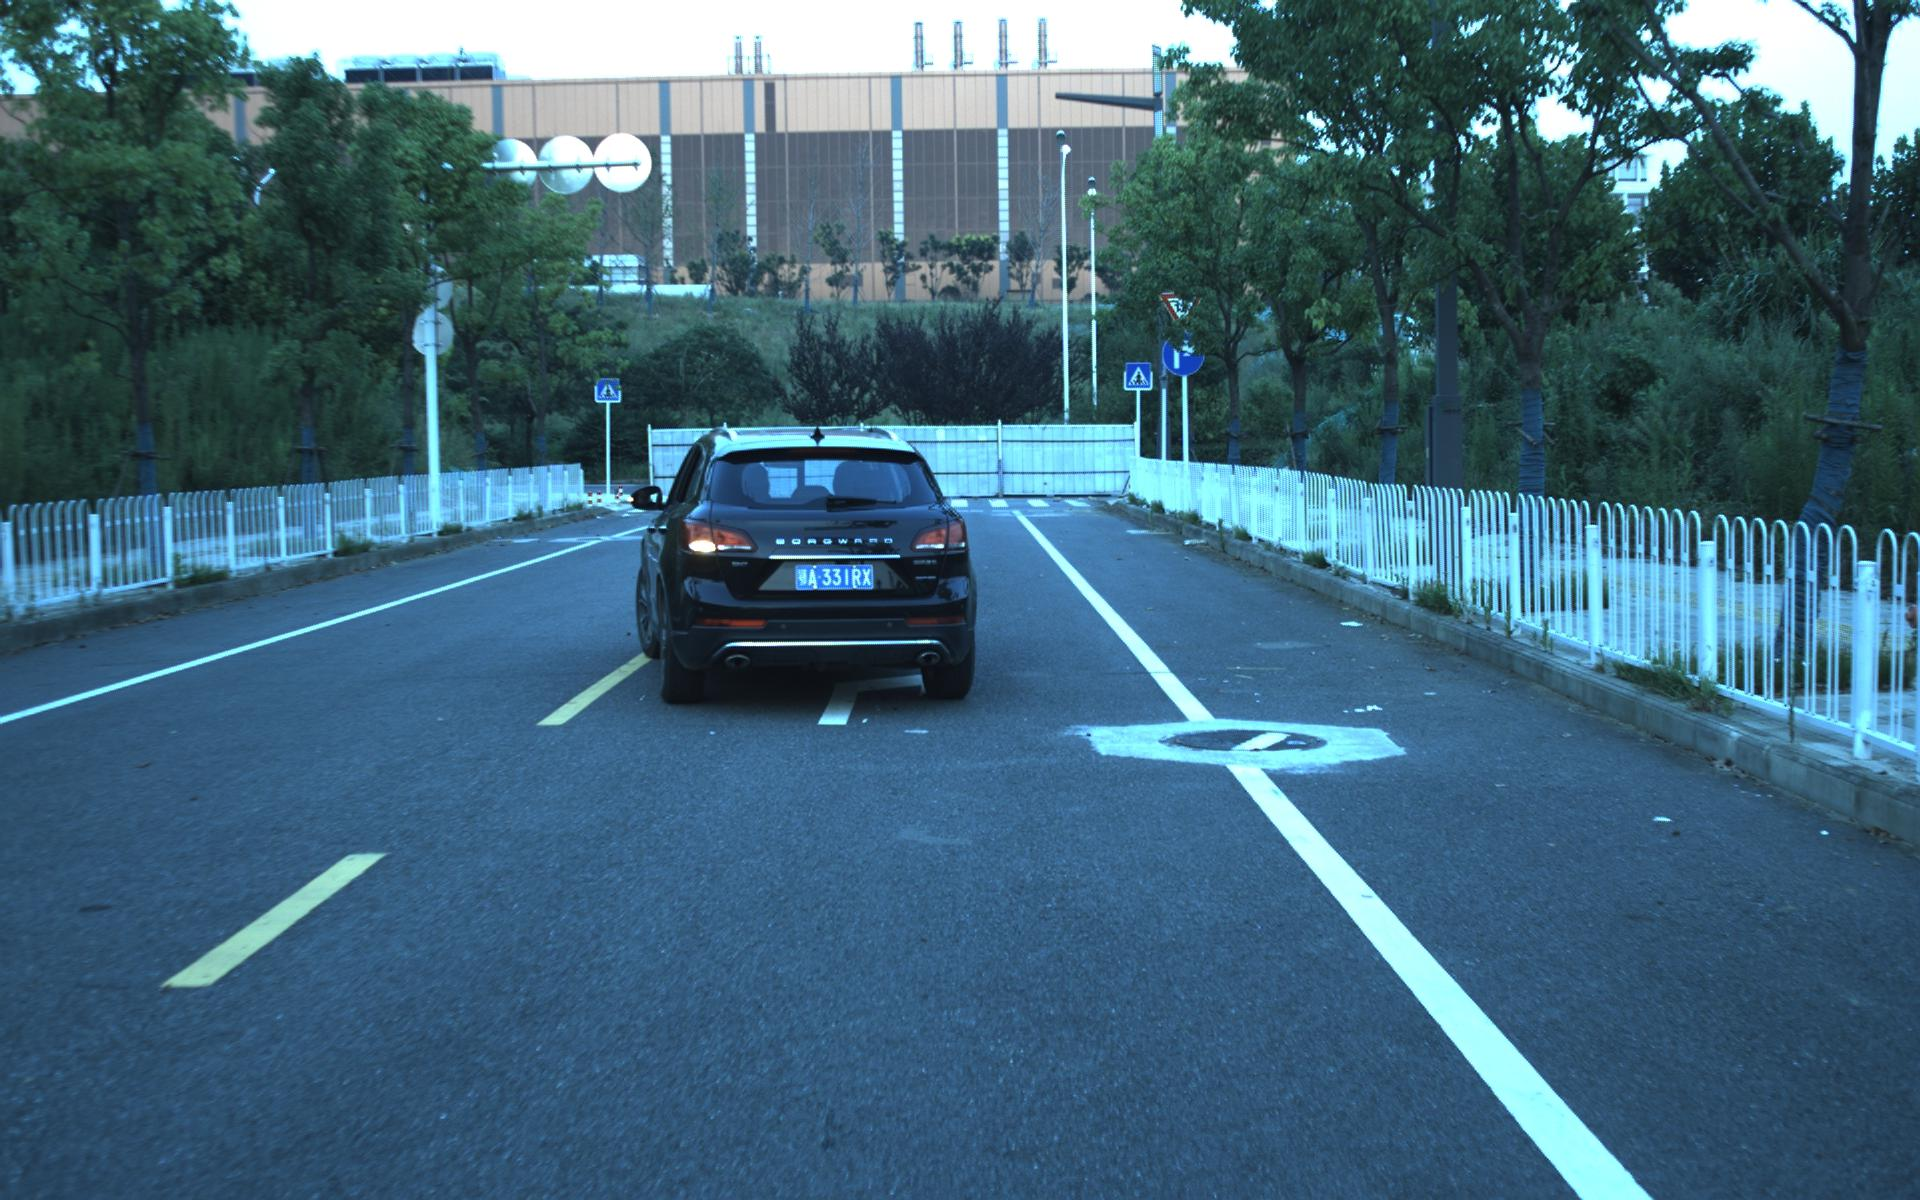Car: (640, 418, 986, 715)
